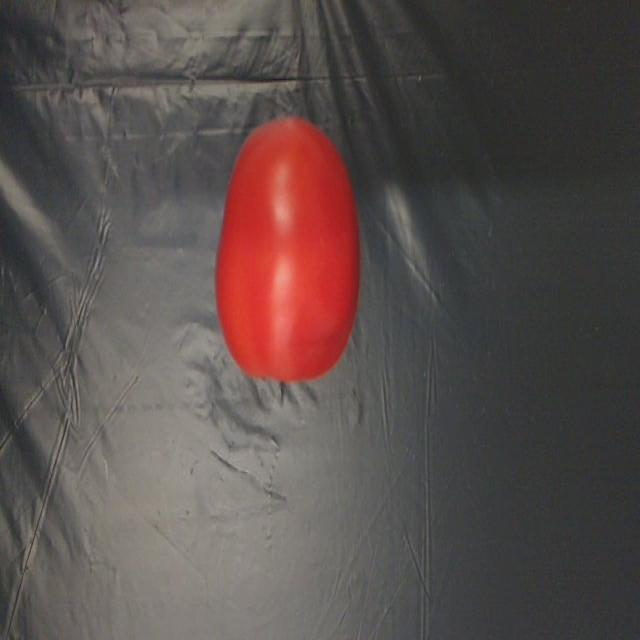kirmizi: (210, 114, 379, 390)
